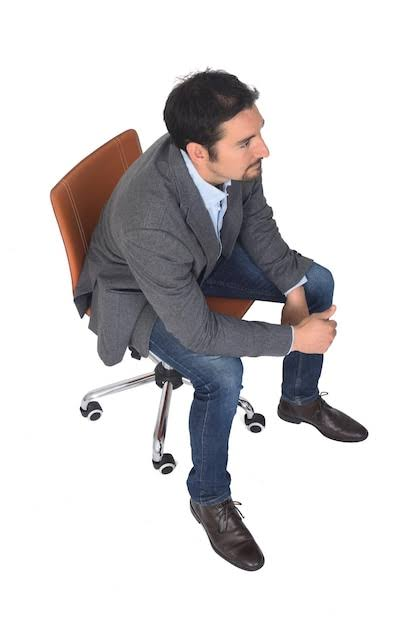distracted: (114, 43, 328, 298)
